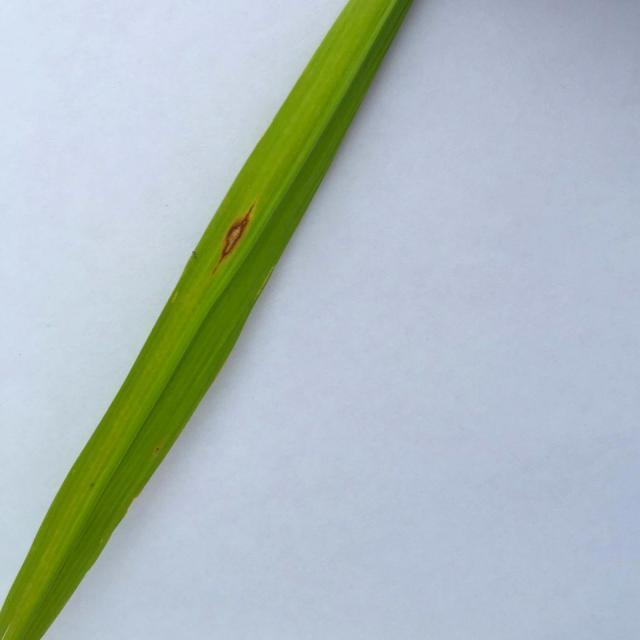Leaf_Blast: (213, 201, 258, 265)
